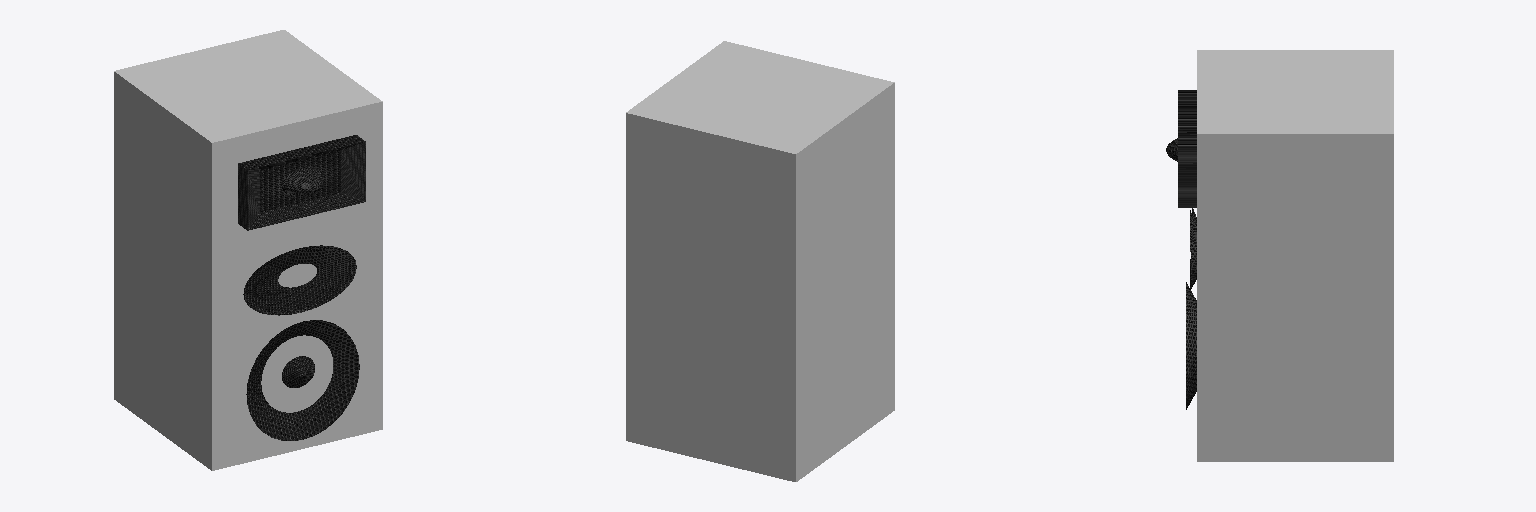
The picture shows the model from 3 angles: view 1: azimuth 30°, elevation 25°; view 2: azimuth 150°, elevation 25°; view 3: azimuth 270°, elevation 25°; orthographic projection.
Visible parts, largest first — view 1: Sphere; view 2: Sphere; view 3: Sphere.
Boxes of the visible parts, box(x1,y1,x2,y2) form: Sphere: box(114, 30, 382, 470); Sphere: box(626, 41, 894, 481); Sphere: box(1166, 50, 1393, 461).
Bounding box in the file's own units: 2 × 3.68 × 2.32.
Materials: 3 (1 with a texture image).